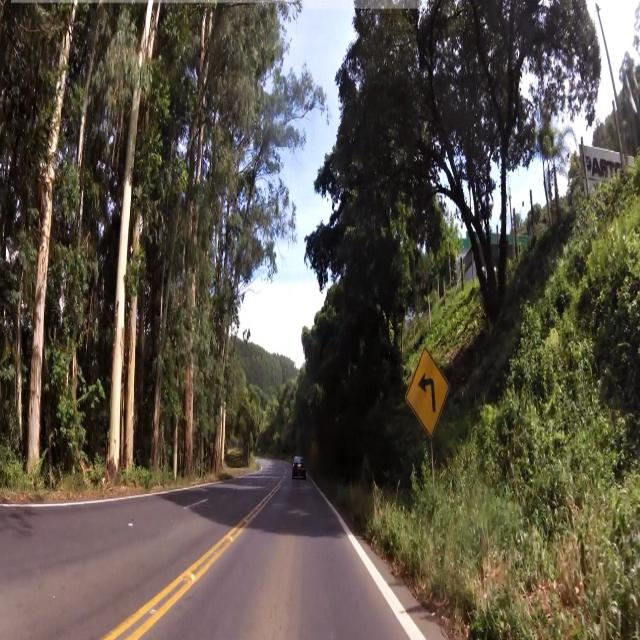A-1a: (404, 345, 451, 440)
